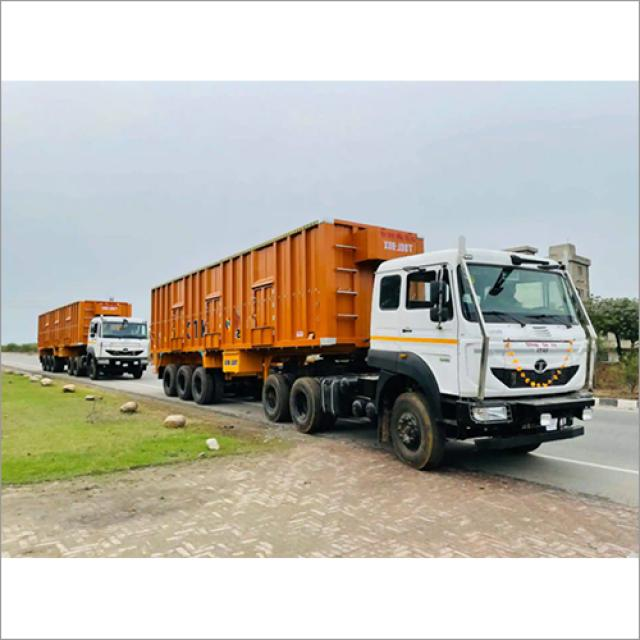truck: (151, 220, 595, 467), (39, 301, 149, 379)
